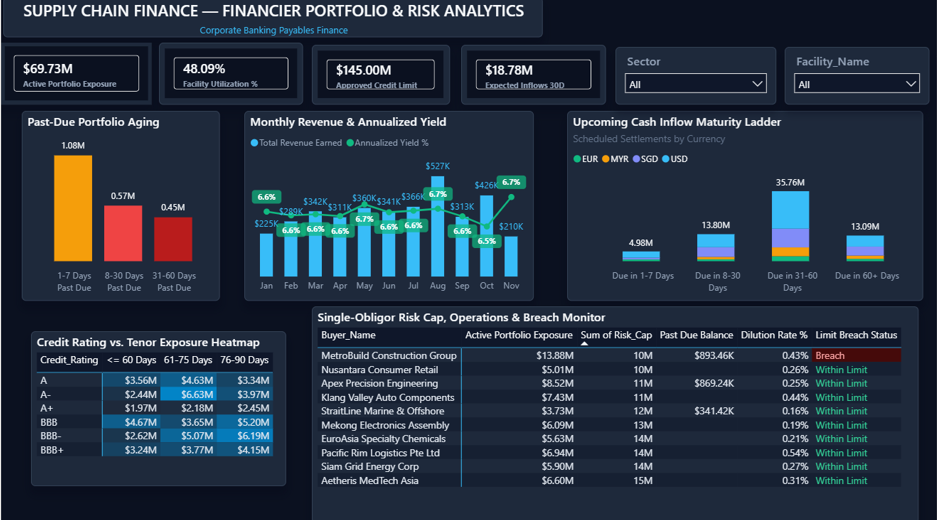

Layout of this report page (visuals, bound fields, positions):
{"tool":"powerbi","page":{"name":"Page 1","canvas":[1280,720],"ordinal":0},"visuals":[{"type":"textbox","title":"SUPPLY CHAIN FINANCE — FINANCIER PORTFOLIO & RISK ANALYTICS","box":[2.9,0,738.2,55.4],"z":0},{"type":"cardVisual","fields":{"Data":["_Measure.Active Portfolio Exposure"]},"box":[0,62.2,206.2,84.6],"z":1000},{"type":"cardVisual","fields":{"Data":["_Measure.Facility Utilization %"]},"box":[215.9,62.2,197.4,84.6],"z":2000},{"type":"cardVisual","fields":{"Data":["_Measure.Approved Credit Limit"]},"box":[425,65.2,188.7,81.7],"z":3000},{"type":"cardVisual","fields":{"Data":["_Measure.Expected Inflows 30D"]},"box":[629.3,65.2,198.4,81.7],"z":4000},{"type":"clusteredColumnChart","title":"Past-Due Portfolio Aging","fields":{"Category":["Dim_AgingBuckets.Bucket_Name"],"Y":["_Measure.Exposure by Aging Bucket"]},"box":[28.2,155.6,271.4,259.7],"z":5000},{"type":"lineClusteredColumnComboChart","title":"Monthly Revenue & Annualized Yield","fields":{"Y":["_Measure.Total Revenue Earned"],"Y2":["_Measure.Annualized Yield %"],"Category":["Dim_Date.Month Short"]},"box":[332.6,155.6,395.9,259.7],"z":6000},{"type":"columnChart","title":"Upcoming Cash Inflow Maturity Ladder","fields":{"Category":["Dim_AgingBuckets.Bucket_Name"],"Y":["_Measure.Exposure by Aging Bucket"],"Series":["Dim_Buyer.Original_Currency"]},"box":[774.2,155.6,487.3,259.7],"z":7000},{"type":"pivotTable","title":"Credit Rating vs. Tenor Exposure Heatmap","fields":{"Rows":["Dim_Buyer.Credit_Rating"],"Columns":["Fact_Invoices.Tenor Bucket"],"Values":["_Measure.Active Portfolio Exposure"]},"box":[40.9,457.1,349.2,212],"z":8000},{"type":"pivotTable","title":"Single-Obligor Risk Cap, Operations & Breach Monitor","fields":{"Rows":["Dim_Buyer.Buyer_Name"],"Values":["_Measure.Active Portfolio Exposure","Sum(Dim_Buyer.Internal_Risk_Cap_USD)","_Measure.Past Due Balance","_Measure.Dilution Rate %","_Measure.Limit Breach Status"]},"box":[425,423.1,829.7,296.7],"z":9000},{"type":"slicer","fields":{"Values":["Dim_Buyer.Sector"]},"box":[840.4,68.1,219.8,78.8],"z":10000},{"type":"slicer","fields":{"Values":["Dim_Facility.Facility_Name"]},"box":[1071.9,68.1,198.4,78.8],"z":11000}]}

Visuals, with their boxes in screenshot pixels (x1, y1, x2, y2), scaled from the page's 1280x720 canvas onto the 937x520 screenshot:
"SUPPLY CHAIN FINANCE — FINANCIER PORTFOLIO & RISK ANALYTICS" textbox: <region>2, 0, 543, 40</region>
cardVisual - _Measure.Active Portfolio Exposure: <region>0, 45, 151, 106</region>
cardVisual - _Measure.Facility Utilization %: <region>158, 45, 303, 106</region>
cardVisual - _Measure.Approved Credit Limit: <region>311, 47, 449, 106</region>
cardVisual - _Measure.Expected Inflows 30D: <region>461, 47, 606, 106</region>
"Past-Due Portfolio Aging" clusteredColumnChart: <region>21, 112, 219, 300</region>
"Monthly Revenue & Annualized Yield" lineClusteredColumnComboChart: <region>243, 112, 533, 300</region>
"Upcoming Cash Inflow Maturity Ladder" columnChart: <region>567, 112, 923, 300</region>
"Credit Rating vs. Tenor Exposure Heatmap" pivotTable: <region>30, 330, 286, 483</region>
"Single-Obligor Risk Cap, Operations & Breach Monitor" pivotTable: <region>311, 306, 918, 519</region>
slicer - Dim_Buyer.Sector: <region>615, 49, 776, 106</region>
slicer - Dim_Facility.Facility_Name: <region>785, 49, 930, 106</region>
